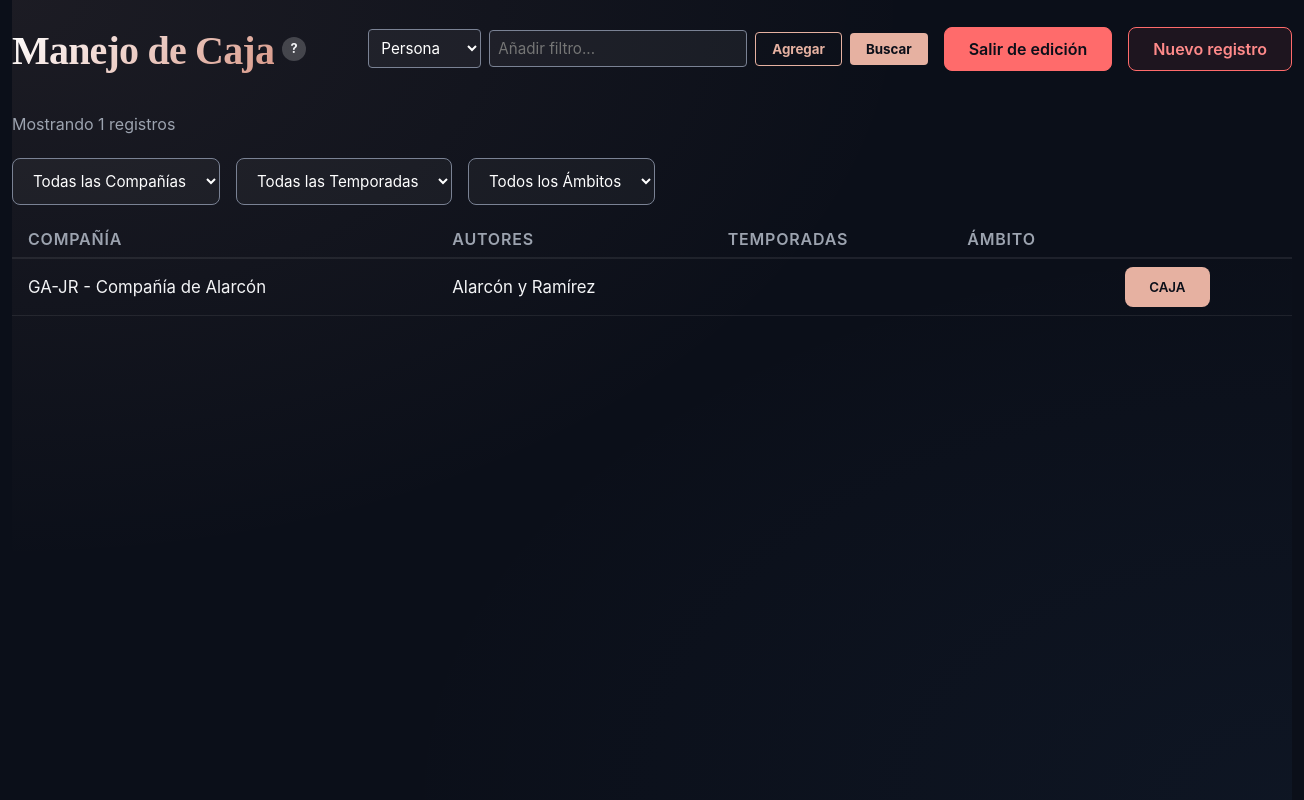
Scenario: estructura semántica: render › h) Manejo de Caja: tablas con título, columnas con nombre y acciones sin flex en el td
Click the button "CAJA".
click(1167, 287)  # box top-left (1125, 267), bottom-right (1210, 307)
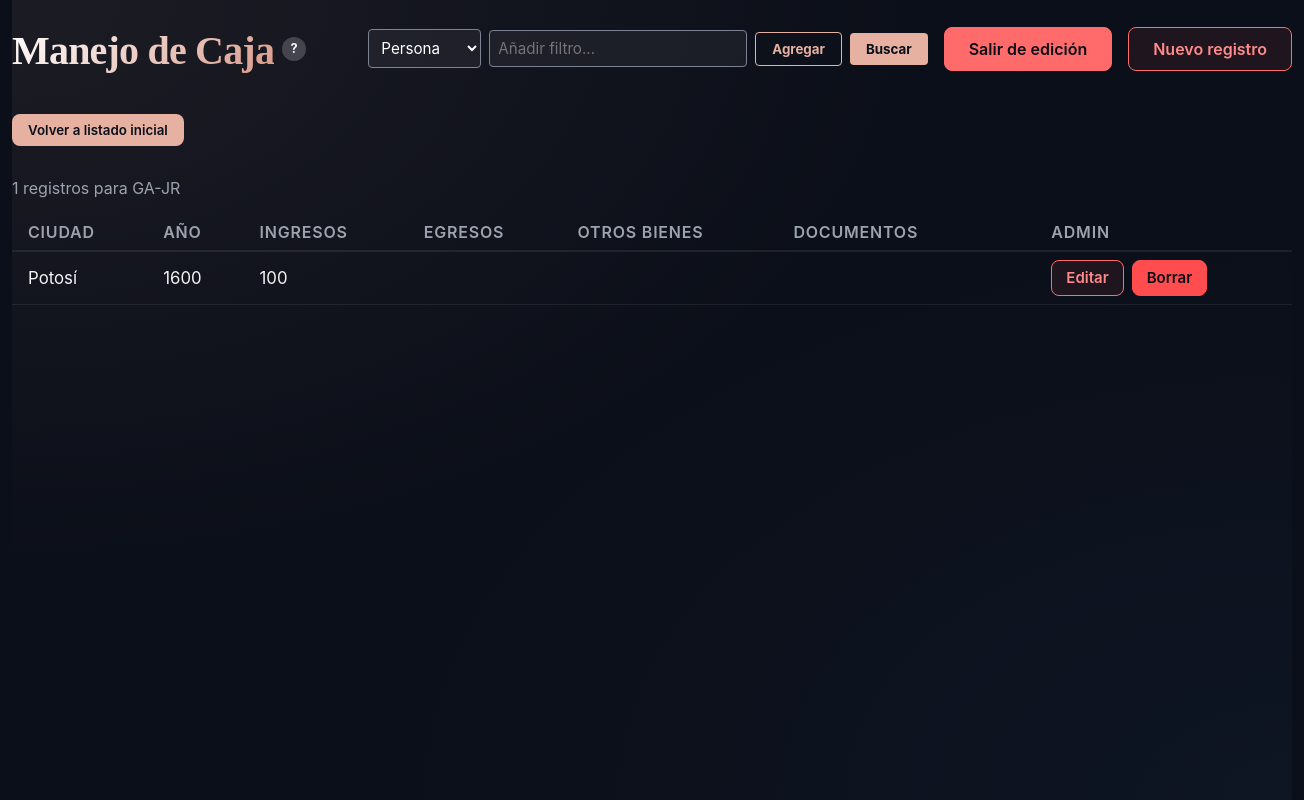
Now the column heading "Admin" is shown, box top-left (1035, 214), bottom-right (1292, 251)
Now the element with class "acciones-celda" is shown, box top-left (1051, 260), bottom-right (1207, 296)
